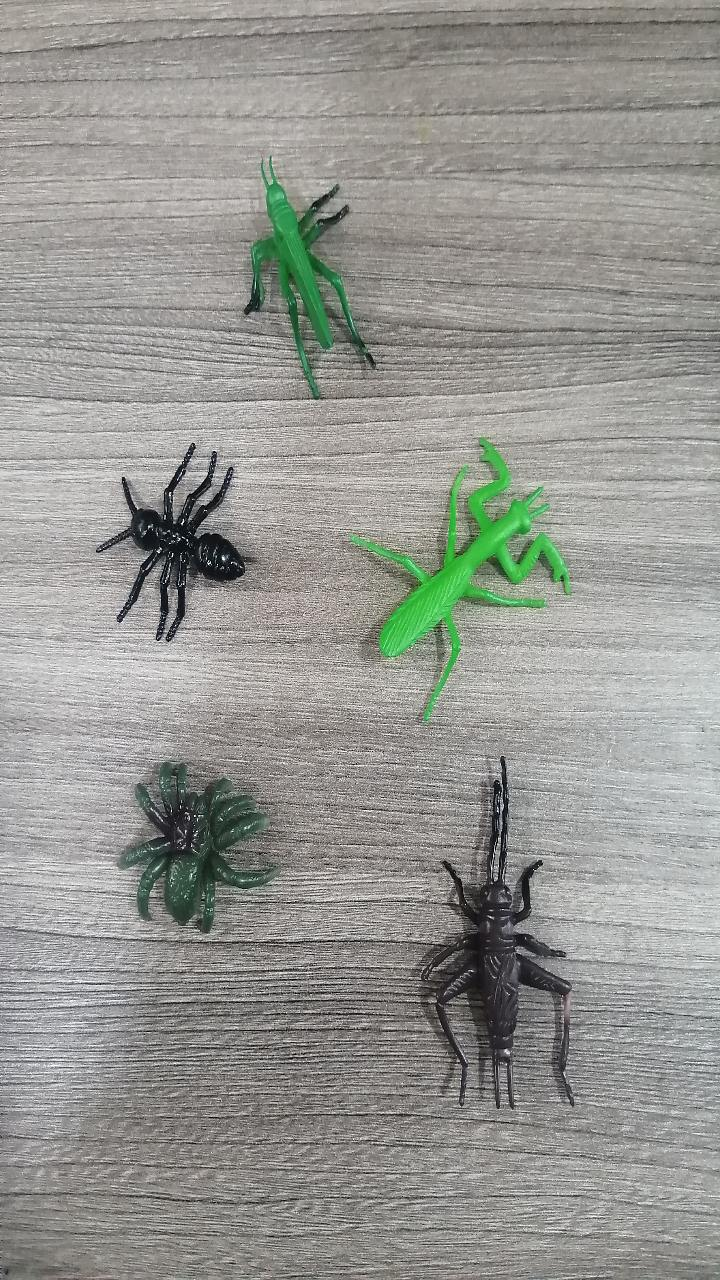intruso: (381, 745, 612, 1128), (332, 406, 569, 737), (208, 95, 401, 405), (78, 708, 294, 963), (64, 411, 264, 660)
